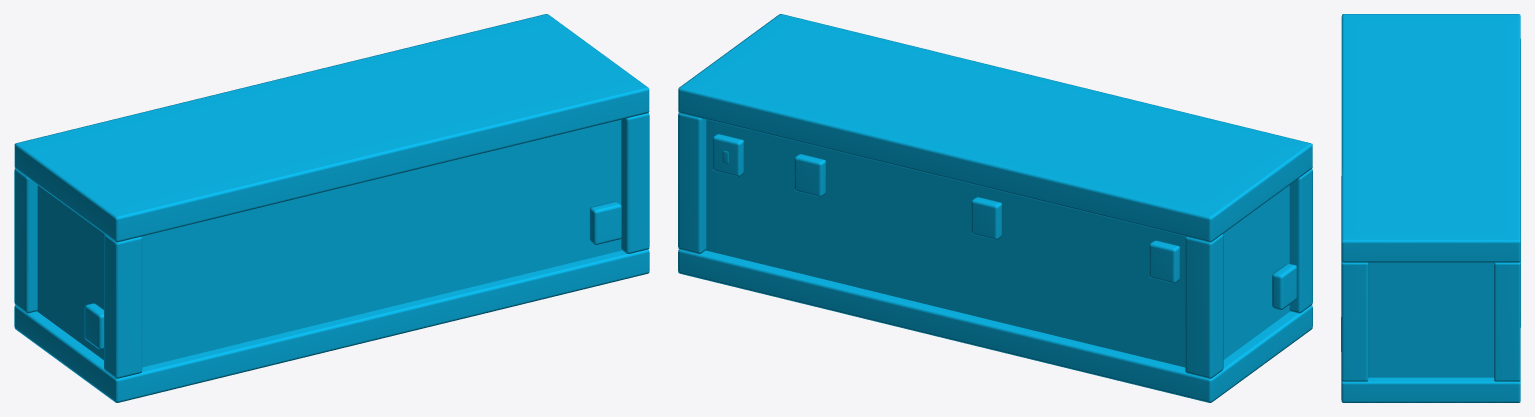
The model's file is SM_Clay_Body_05.fbx.
3 views of the same model, side by side, from view 1: azimuth 30°, elevation 25°; view 2: azimuth 150°, elevation 25°; view 3: azimuth 270°, elevation 25° (orthographic). The views are drawn at different scales.
Visible parts, largest first — view 1: SM_Clay_Body_05; view 2: SM_Clay_Body_05; view 3: SM_Clay_Body_05.
Boxes of the visible parts, box(x1,y1,x2,y2) form: SM_Clay_Body_05: box(14, 14, 649, 402); SM_Clay_Body_05: box(678, 14, 1312, 402); SM_Clay_Body_05: box(1341, 14, 1520, 402).
Size of the model in its own units: 3 by 0.9979 by 1.
